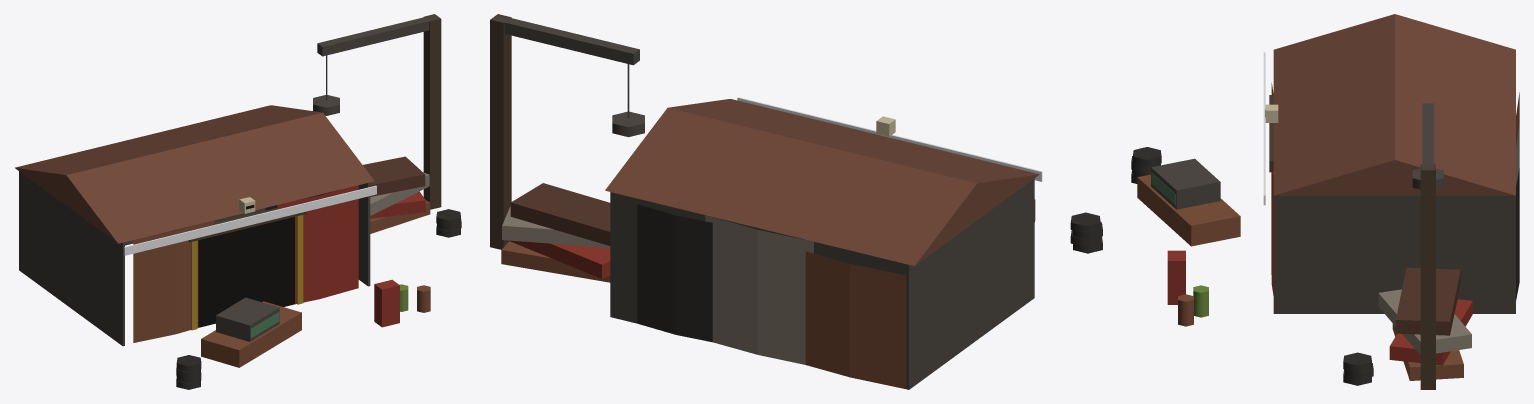
3 renders of one model, left to right at view 1: azimuth 30°, elevation 25°; view 2: azimuth 150°, elevation 25°; view 3: azimuth 270°, elevation 25°, orthographic. The views are drawn at different scales.
Parts seen in each view (by area): view 1: raider_building_garage; view 2: raider_building_garage; view 3: raider_building_garage.
Boxes of the visible parts, box(x1,y1,x2,y2) form: raider_building_garage: box(15, 14, 461, 389); raider_building_garage: box(490, 14, 1102, 389); raider_building_garage: box(1131, 14, 1519, 389).
Size of the model in its own units: 17.15 by 8 by 12.83.
